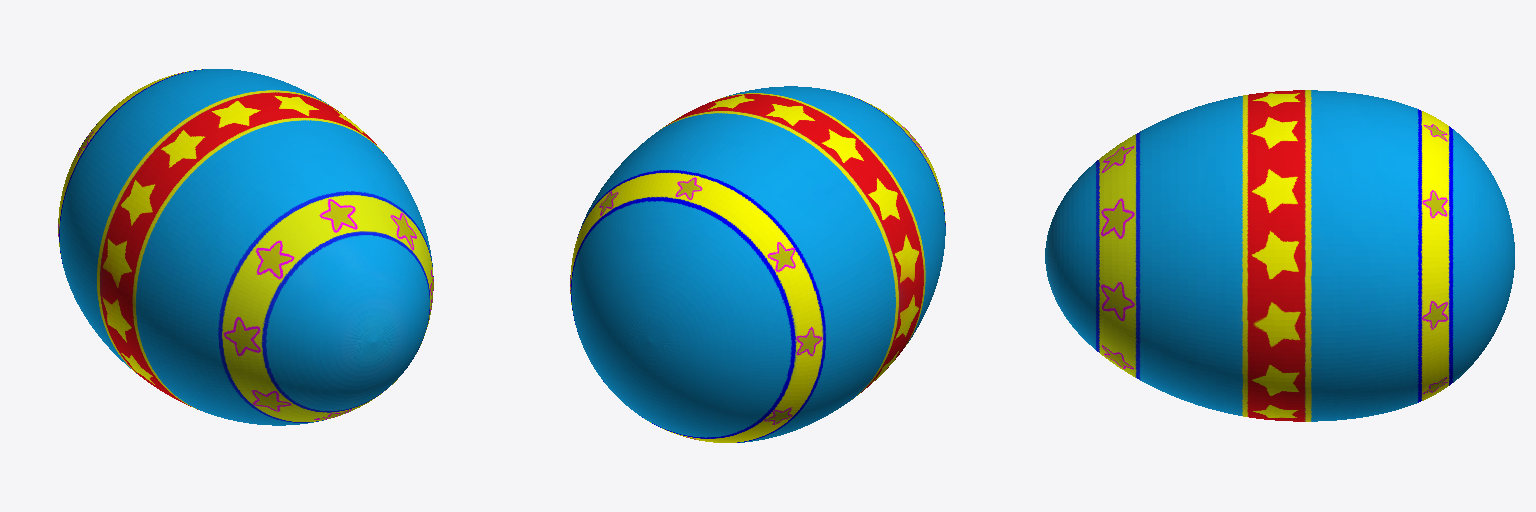
3 renders of one model, left to right at view 1: azimuth 30°, elevation 25°; view 2: azimuth 150°, elevation 25°; view 3: azimuth 270°, elevation 25°, orthographic.
Parts seen in each view (by area): view 1: Egg; view 2: Egg; view 3: Egg.
Part boxes in pixels (x1,y1,x2,y2): Egg: (58, 69, 433, 425); Egg: (570, 86, 945, 442); Egg: (1045, 90, 1514, 421).
Bounding box in the file's own units: 4.69 × 4.69 × 6.66.
Materials: 1 (1 with a texture image).